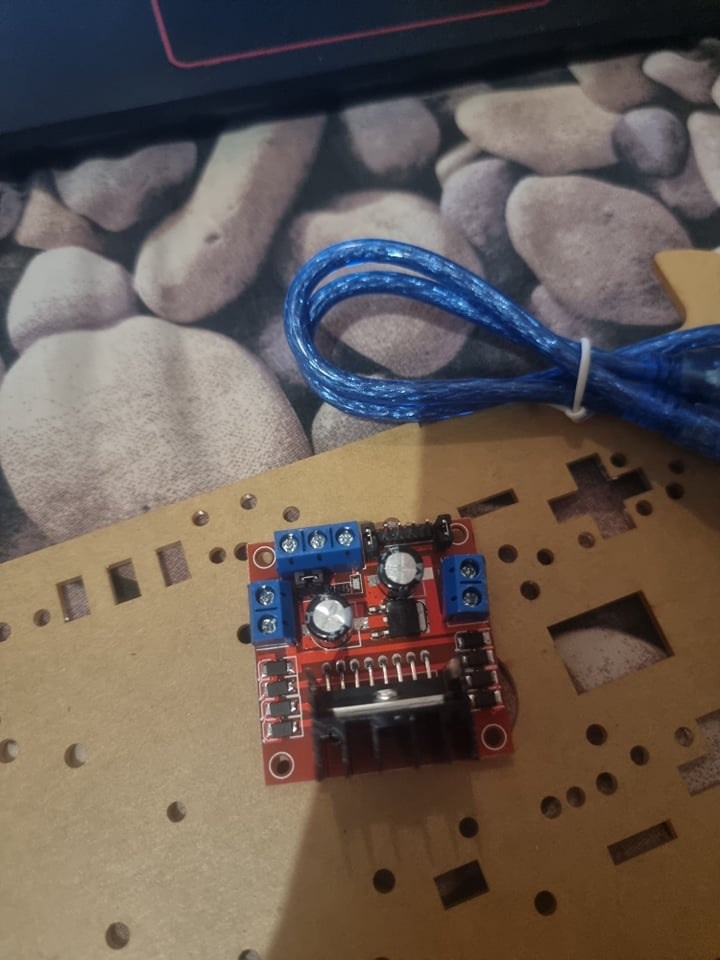MOTOR: (245, 510, 514, 787)
